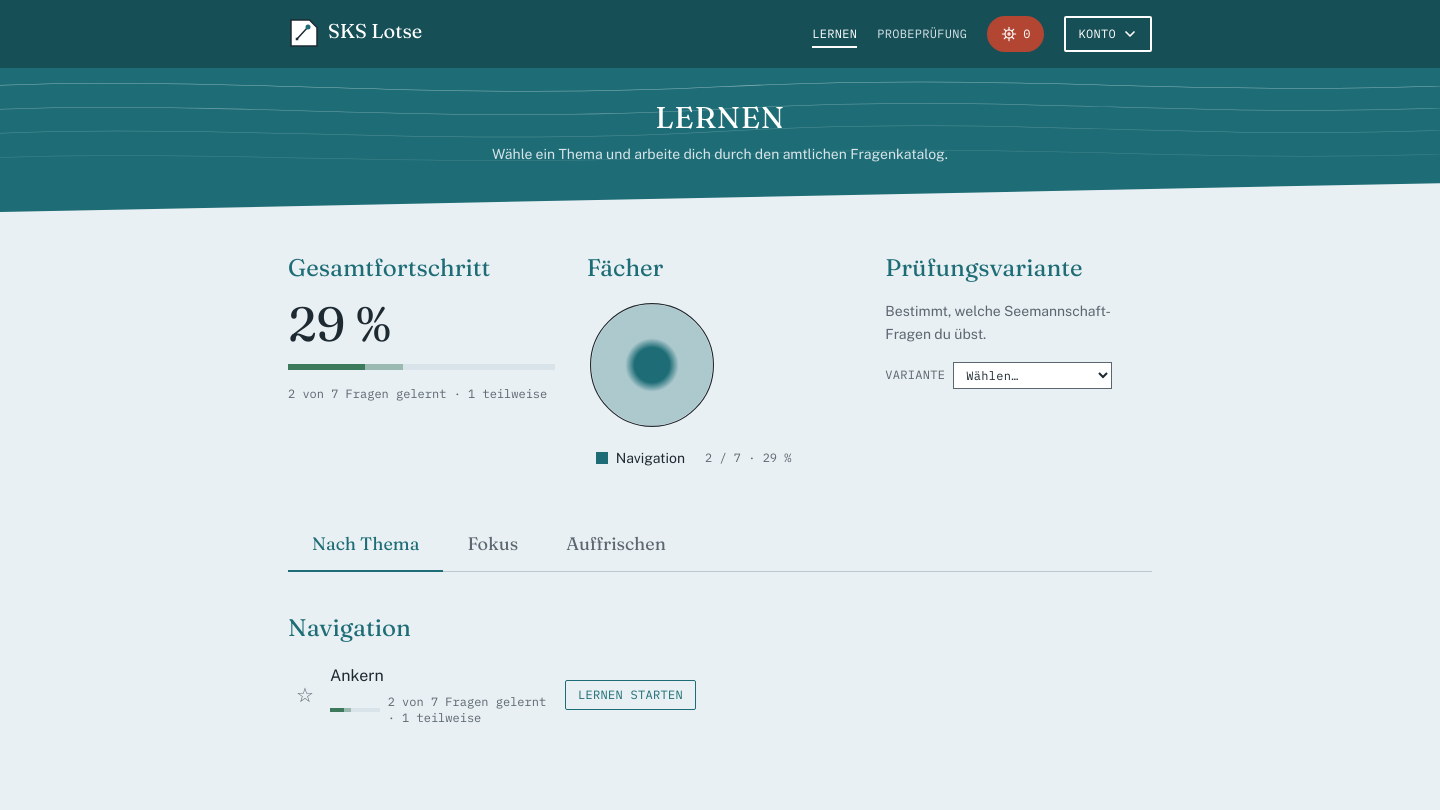
Scenario: LearnPage › keeps the Lernstand and shows an error when the Fokus cannot be saved
Click the button named "Als Fokus markieren: Ankern".
click(305, 695)  # box [292,681,318,709]
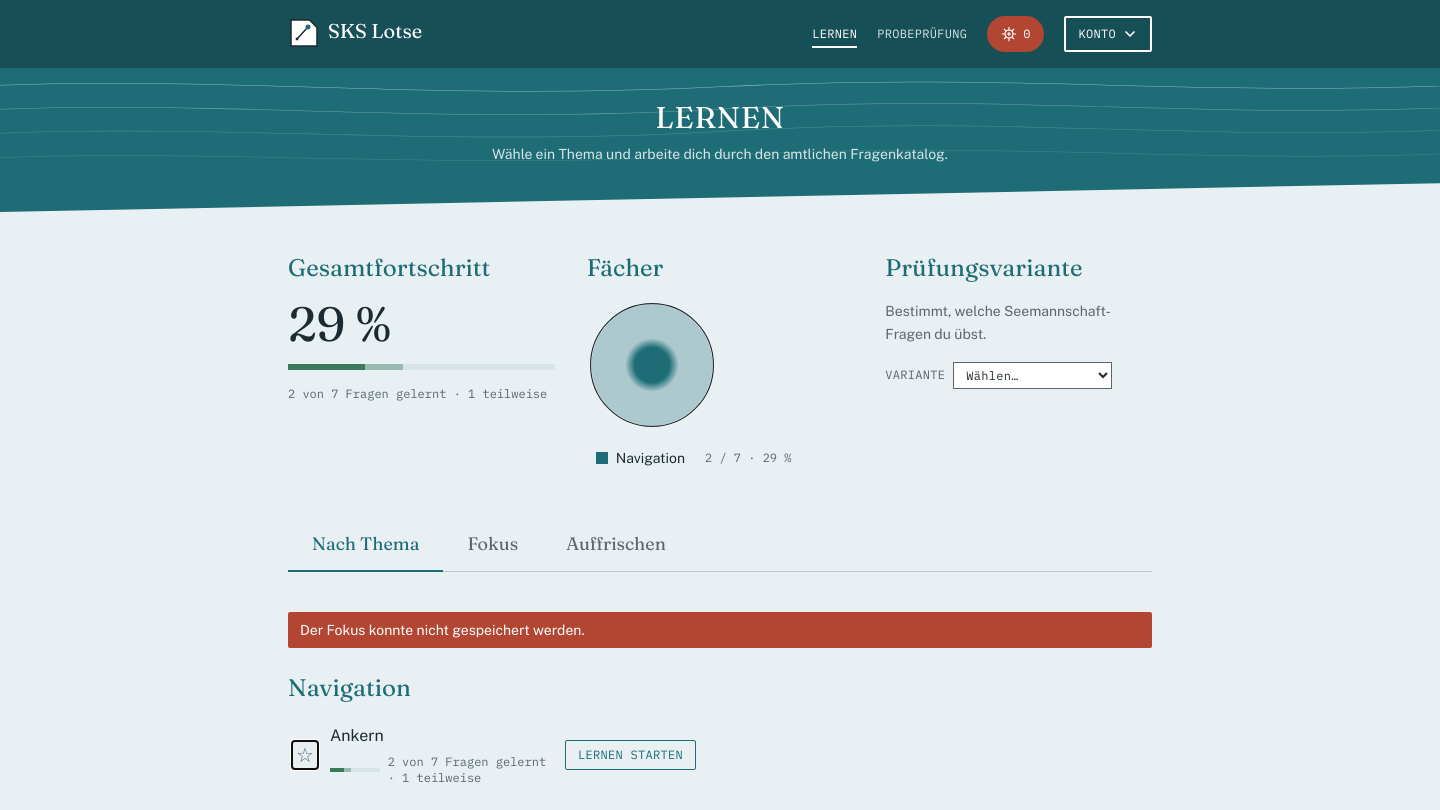
Expected: the text "Ankern" is shown, [330,726,384,745]
Now the text "Der Fokus konnte nicht gespeichert werden." is shown, box [300,620,585,640]
